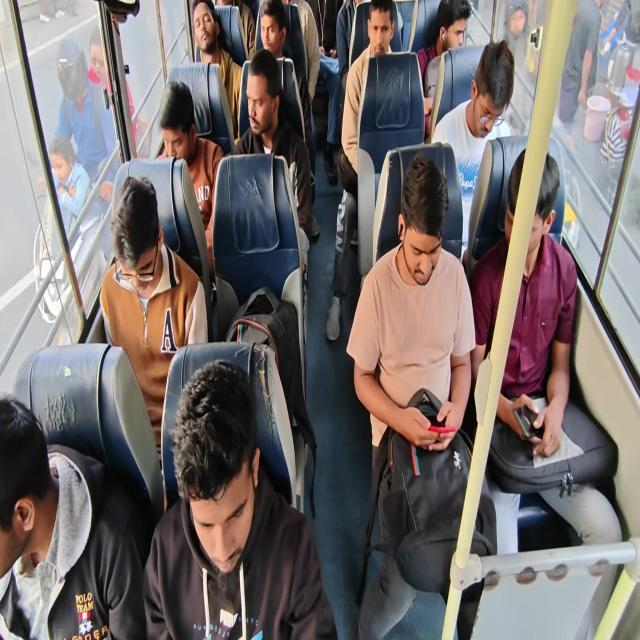person: (162, 348, 250, 605), (0, 393, 59, 636), (110, 166, 162, 324), (477, 46, 530, 182), (404, 179, 448, 292), (153, 72, 202, 164), (516, 179, 556, 276), (244, 91, 288, 163), (195, 0, 230, 88), (436, 1, 476, 60), (259, 1, 292, 70), (312, 0, 338, 58), (368, 0, 393, 55), (215, 0, 244, 27), (271, 0, 299, 18), (350, 0, 366, 27)
